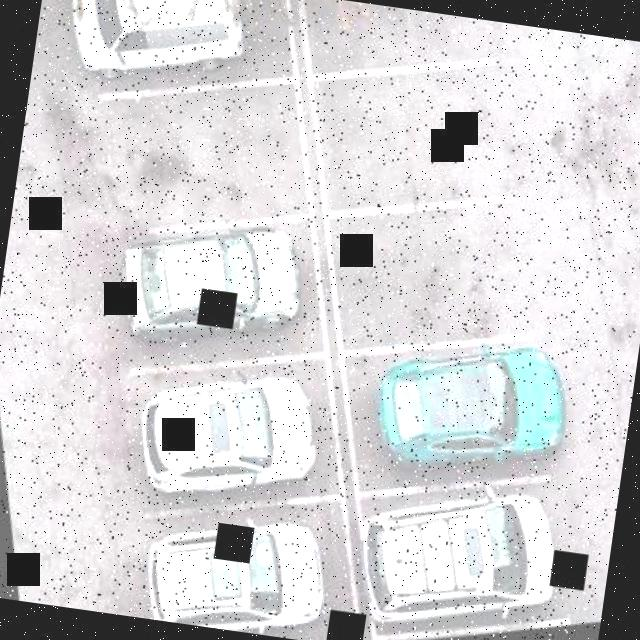car: (86, 320, 356, 552), (332, 454, 589, 640), (352, 298, 590, 495), (82, 194, 324, 384), (113, 480, 357, 640), (45, 0, 256, 111)
free: (71, 57, 322, 266), (302, 36, 527, 228), (314, 188, 530, 365), (291, 0, 493, 92)
